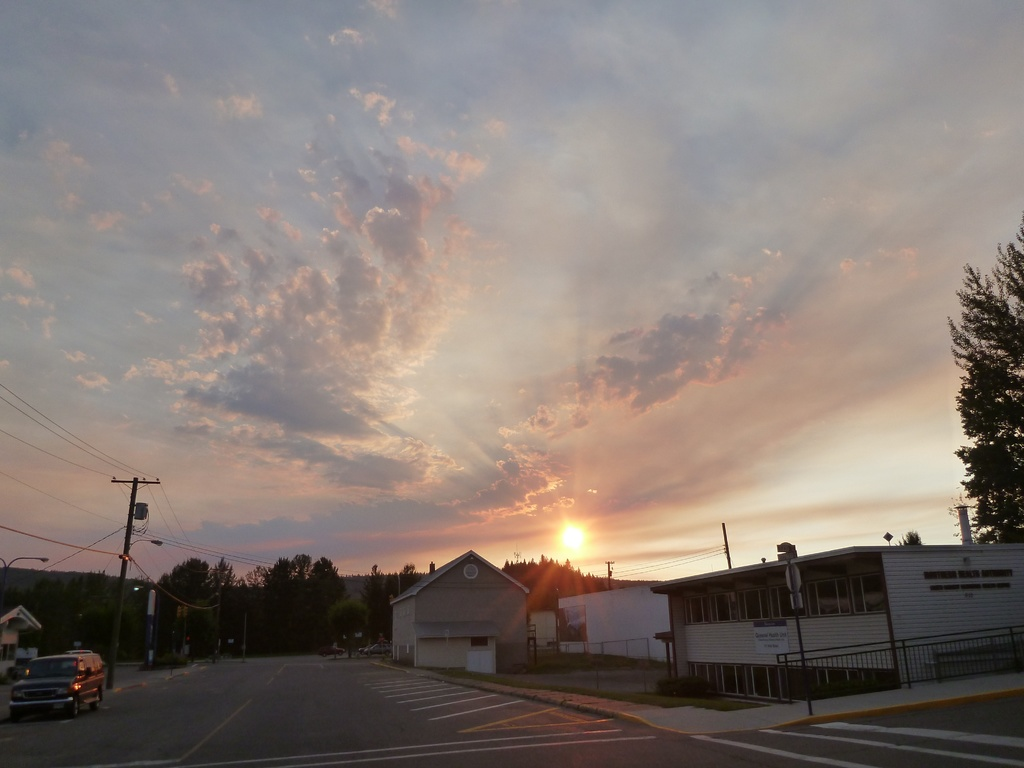Tree: (943, 245, 1024, 569), (135, 552, 248, 658), (258, 550, 356, 654), (346, 560, 417, 653), (503, 549, 599, 602)
